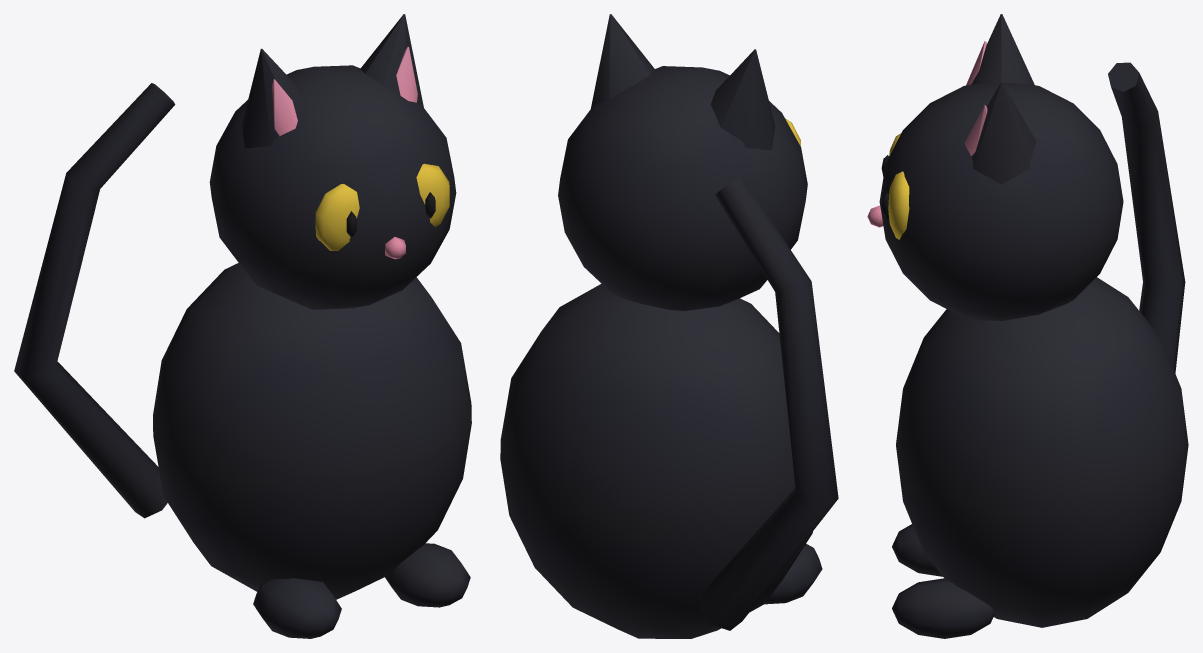
Rendered from fe-cat.glb.
The picture shows the model from 3 angles, left to right: view 1: azimuth 30°, elevation 25°; view 2: azimuth 150°, elevation 25°; view 3: azimuth 270°, elevation 25°; orthographic projection. The views are drawn at different scales.
Visible parts, largest first — view 1: fe-cat; view 2: fe-cat; view 3: fe-cat.
Part boxes in pixels (box(x1,y1,x2,y2)): fe-cat: box(14, 14, 471, 638); fe-cat: box(500, 14, 838, 638); fe-cat: box(867, 14, 1188, 638).
Bounding box in the file's own units: 0.5235 × 0.7684 × 0.395.
